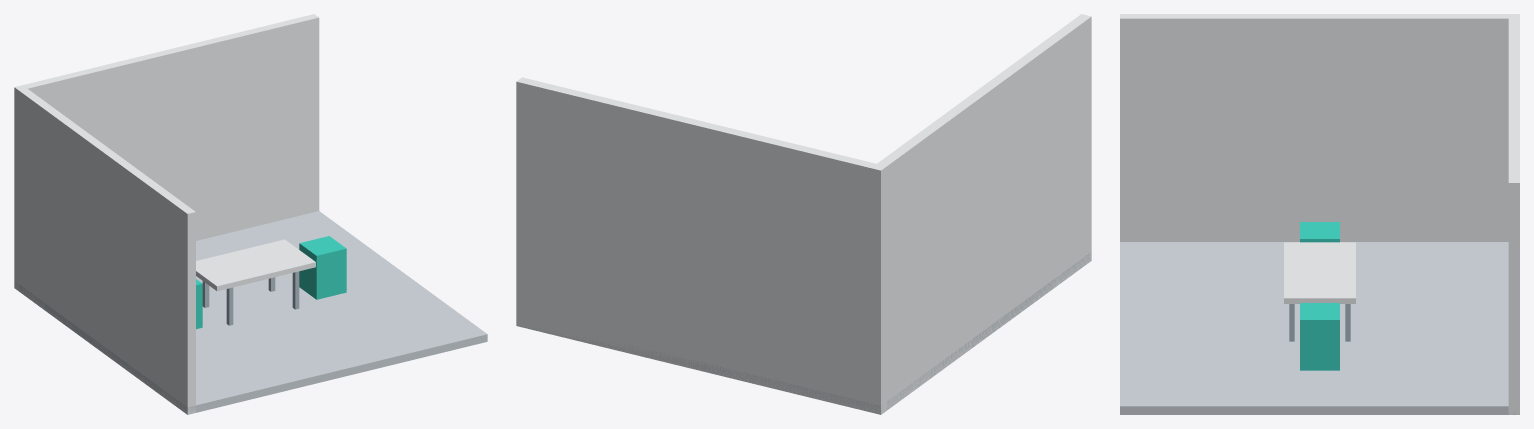
3 views of the same model, side by side, from view 1: azimuth 30°, elevation 25°; view 2: azimuth 150°, elevation 25°; view 3: azimuth 270°, elevation 25° (orthographic). The views are drawn at different scales.
Visible parts, largest first — view 1: Exhibition Booth Concept; view 2: Exhibition Booth Concept; view 3: Exhibition Booth Concept.
Part boxes in pixels (x1=…): Exhibition Booth Concept: x1=14, y1=14, x2=487, y2=414; Exhibition Booth Concept: x1=516, y1=14, x2=1091, y2=414; Exhibition Booth Concept: x1=1120, y1=14, x2=1519, y2=414.
Size of the model in its own units: 5 by 3.2 by 5.
